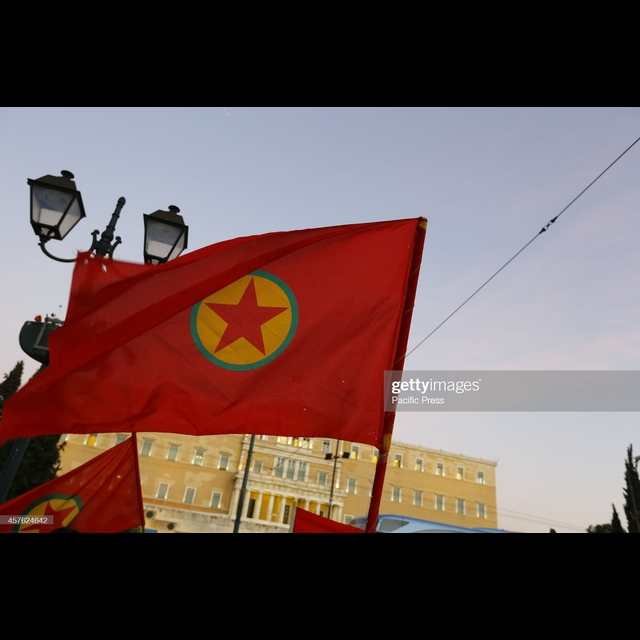PKK: (183, 264, 307, 374)
